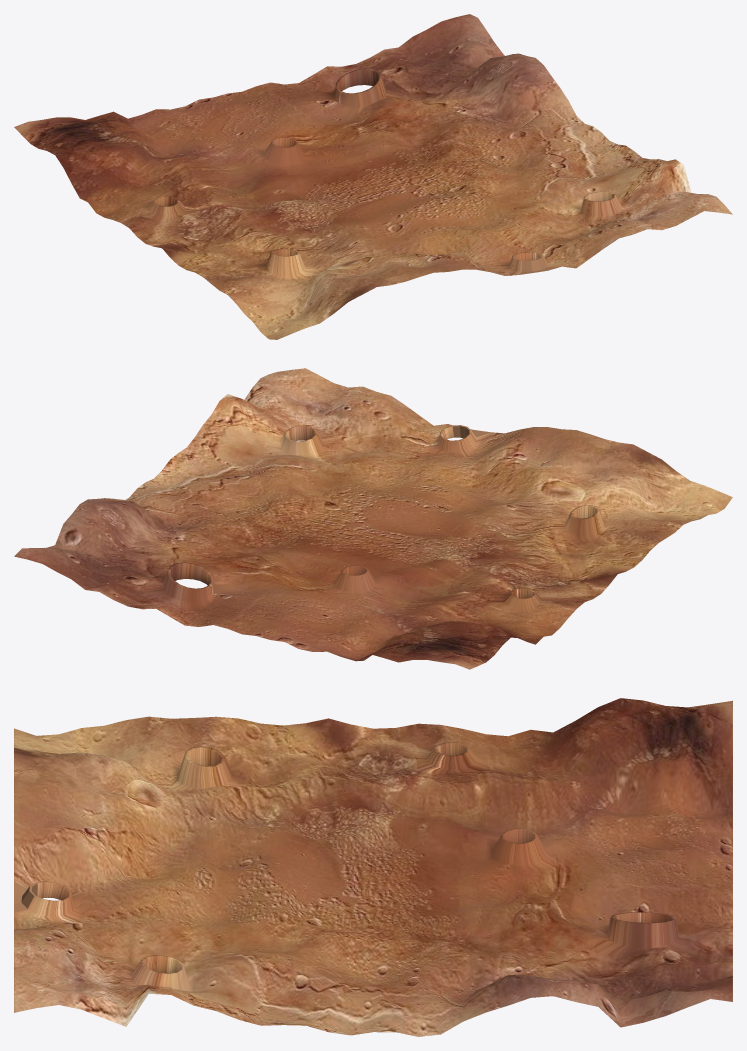
The model's file is MarsSurface.fbx.
3 views of the same model, one above another, from view 1: azimuth 30°, elevation 25°; view 2: azimuth 150°, elevation 25°; view 3: azimuth 270°, elevation 25° (orthographic). The views are drawn at different scales.
Visible parts, largest first — view 1: MarsSurface; view 2: MarsSurface; view 3: MarsSurface.
Part boxes in pixels (x1=…): MarsSurface: x1=14, y1=14, x2=732, y2=339; MarsSurface: x1=14, y1=368, x2=732, y2=669; MarsSurface: x1=14, y1=698, x2=732, y2=1036.
Size of the model in its own units: 6.31 by 6.31 by 0.4991.
Materials: 1 (1 with a texture image).
